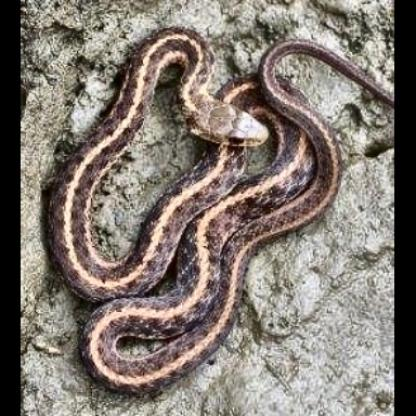Snake: (37, 16, 359, 402)
